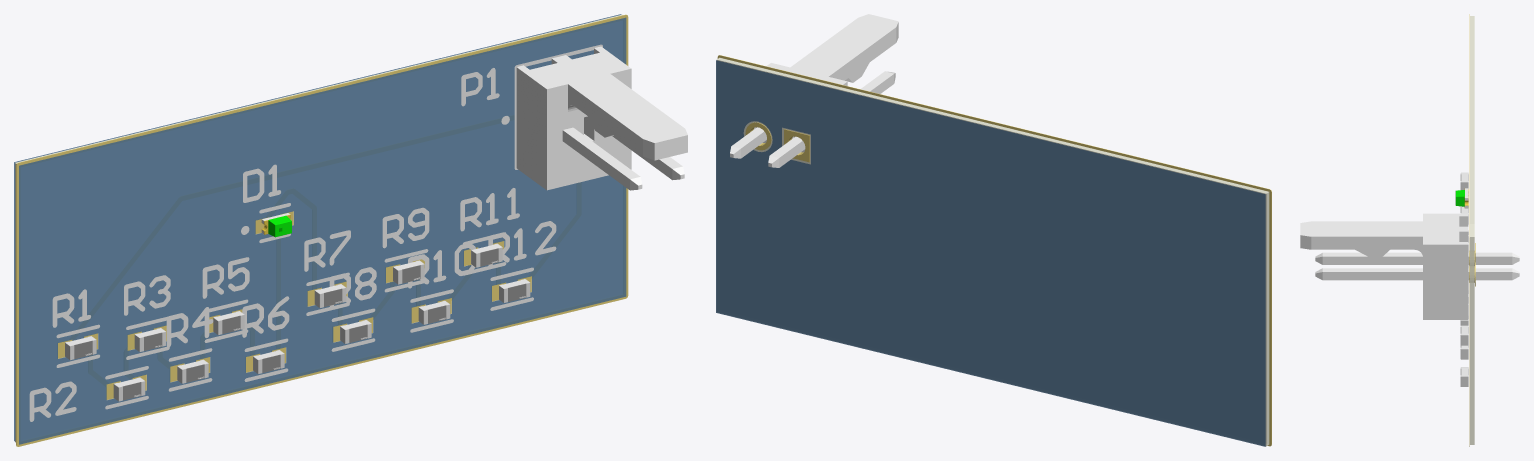
The model's file is closervers.fbx.
The picture shows the model from 3 angles, left to right: view 1: azimuth 30°, elevation 25°; view 2: azimuth 150°, elevation 25°; view 3: azimuth 270°, elevation 25°; orthographic projection. The views are drawn at different scales.
Parts seen in each view (by area): view 1: Solder_Top, ComponentBody.54, Track.50, Track.49, Core, Solder_Bottom, Silk.43, Silk.46, Silk.45, Silk.37, Track.52, Silk.33 (+8 smaller); view 2: Solder_Bottom, ComponentBody.54, Core, Track.50, Track.52; view 3: ComponentBody.54, Core.
Boxes of the visible parts, x1,y1,x2,y2 form: Solder_Top: [19, 17, 626, 444]; ComponentBody.54: [516, 46, 687, 190]; Track.50: [16, 14, 627, 167]; Track.49: [16, 294, 627, 446]; Core: [15, 14, 622, 442]; Solder_Bottom: [14, 14, 621, 441]; Silk.43: [202, 257, 249, 298]; Silk.46: [460, 188, 519, 231]; Silk.45: [488, 221, 556, 266]; Silk.37: [382, 207, 429, 248]; Track.52: [16, 163, 20, 446]; Silk.33: [29, 381, 76, 421]; Solder_Bottom: [716, 60, 1265, 446]; ComponentBody.54: [730, 14, 898, 167]; Core: [717, 57, 1269, 446]; Track.50: [718, 55, 1271, 193]; Track.52: [1268, 190, 1271, 445]; ComponentBody.54: [1300, 213, 1519, 319]; Core: [1470, 16, 1474, 444].
Size of the model in its own units: 367 by 163 by 153.
